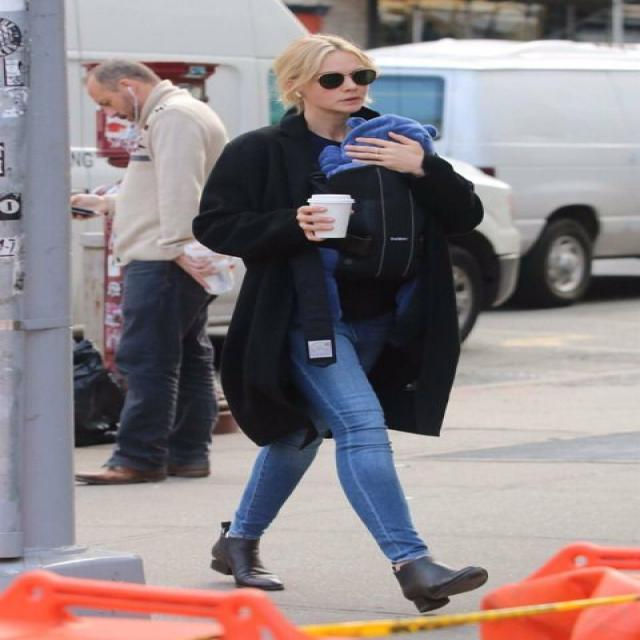earphone: (124, 82, 148, 123), (293, 86, 310, 106)
